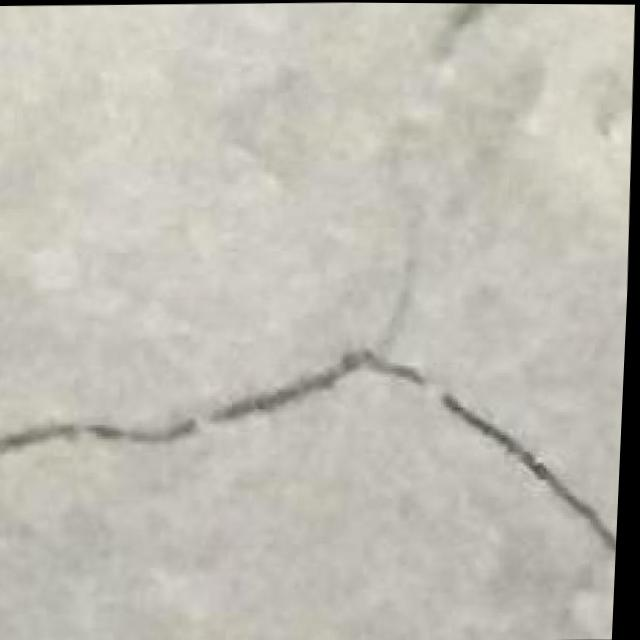Crack: (0, 325, 629, 570)
